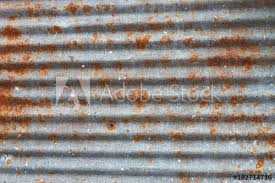rust: (2, 24, 37, 144), (204, 32, 261, 75), (244, 122, 274, 177), (90, 63, 112, 84), (63, 2, 96, 15), (44, 24, 67, 37), (134, 34, 150, 52), (210, 115, 220, 141), (168, 128, 187, 140), (135, 131, 142, 143)
